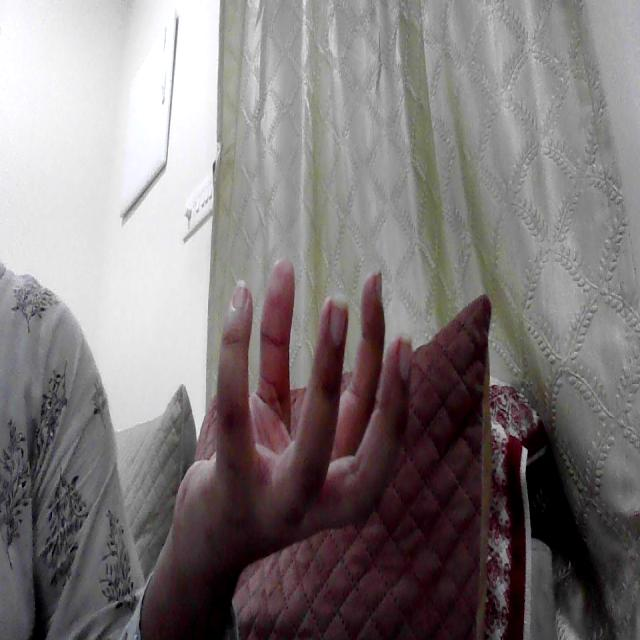Padmakosha: (183, 220, 435, 580)
